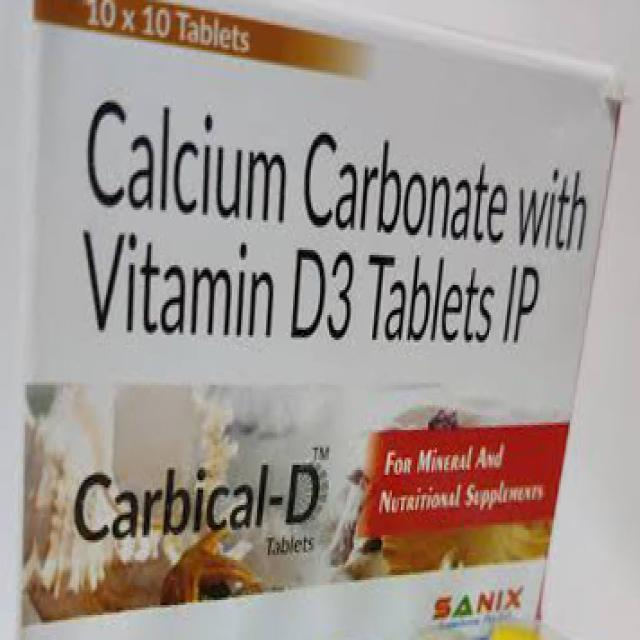drug-name: (71, 463, 323, 545)
